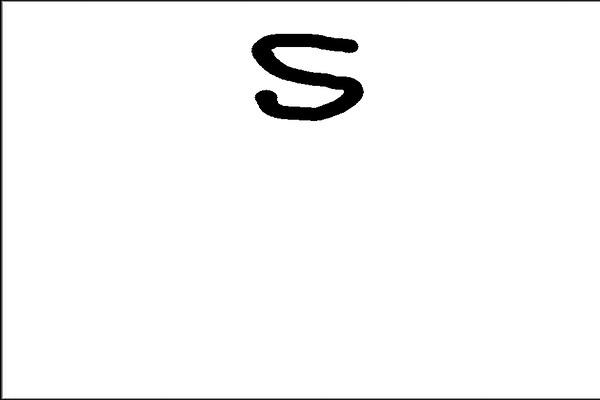S: (244, 26, 371, 125)
